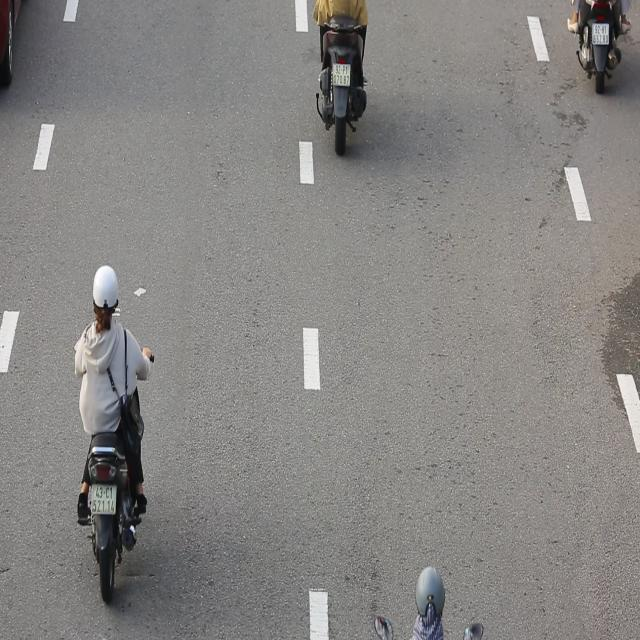motorbike: (70, 263, 160, 606)
